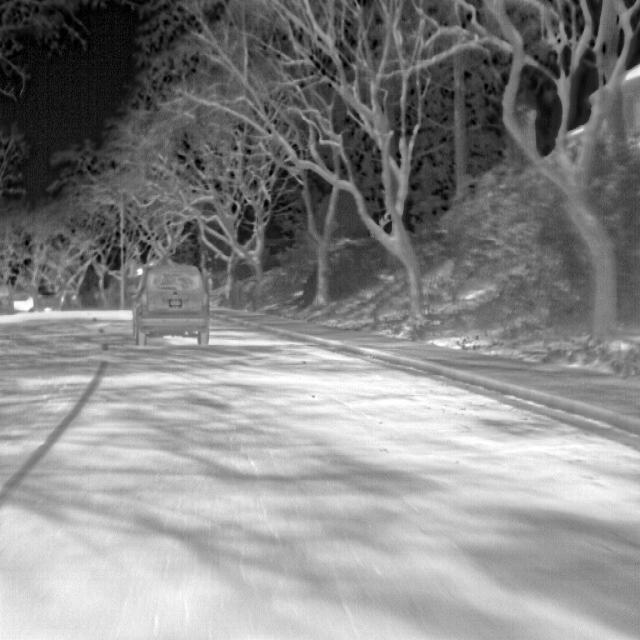Vehicle: (129, 261, 213, 350)
